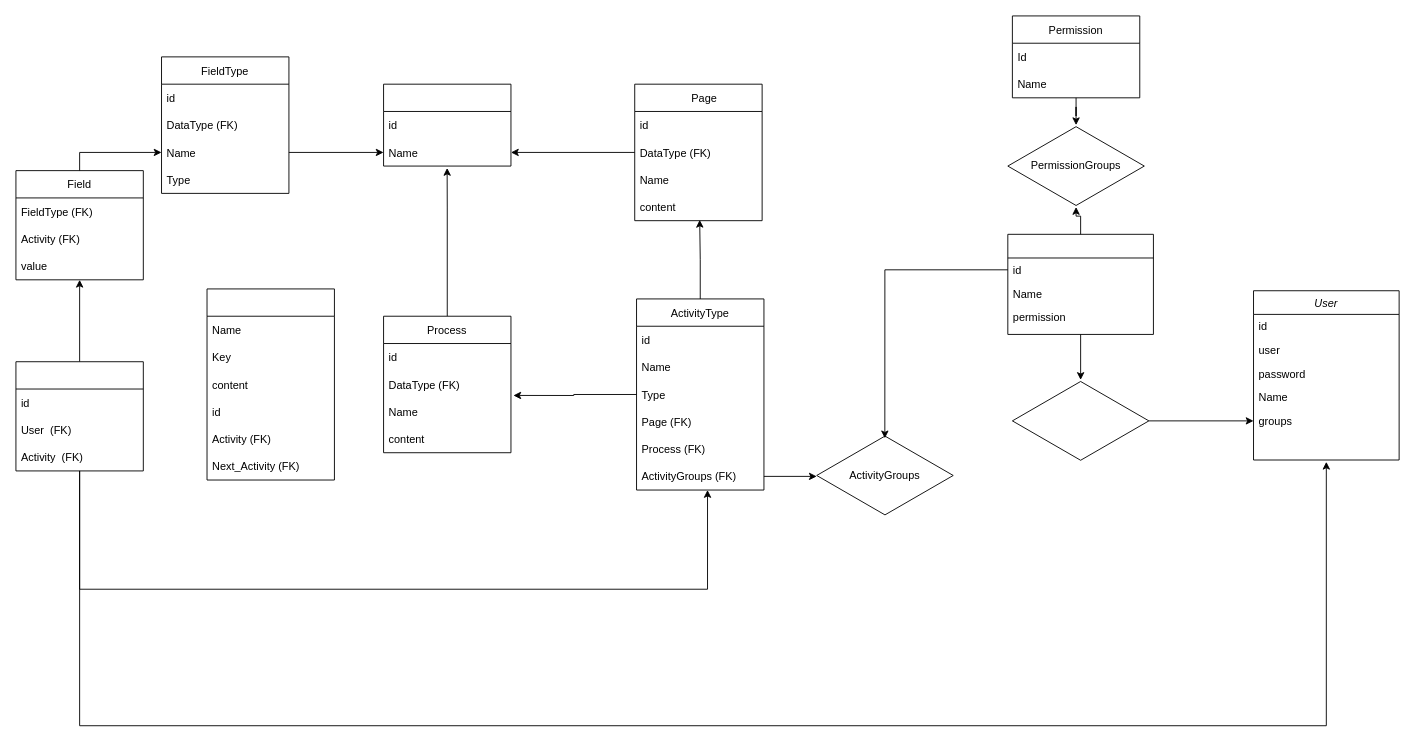
This 1415x749 diagram has some shape labels left out. The box of each missing label's shape, as (x1, y1, x2, y2) in pixels:
Acitivity: (15, 361, 143, 471)
DataType: (383, 83, 511, 166)
Group: (1007, 233, 1153, 334)
Route: (206, 288, 334, 480)
UserGroups: (1011, 379, 1149, 462)
